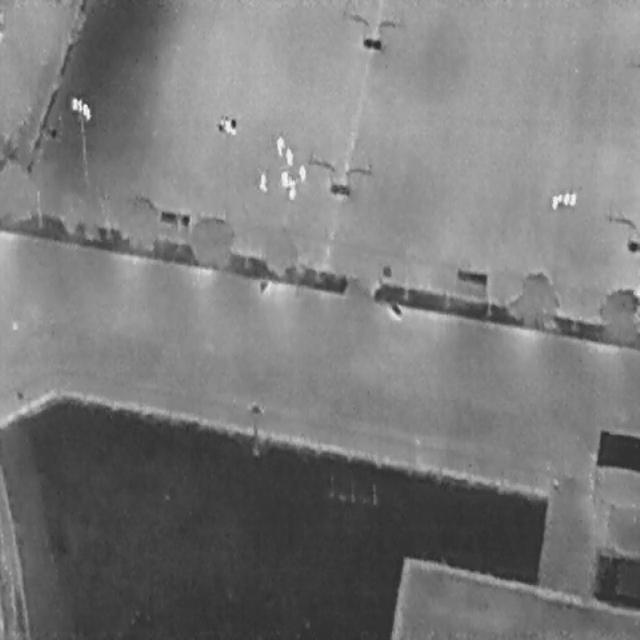Person: (287, 175, 296, 200), (284, 145, 293, 166), (258, 171, 267, 191), (279, 169, 288, 189), (276, 135, 284, 157), (298, 162, 306, 182)
